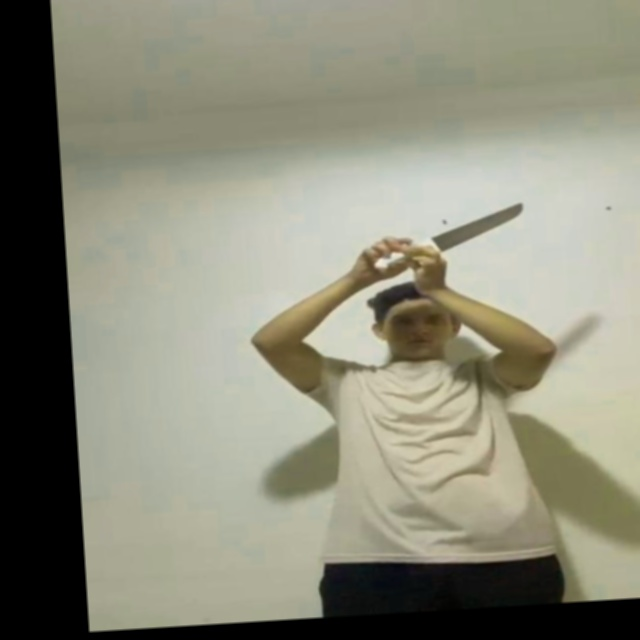Sharp-Object: (431, 201, 527, 251)
